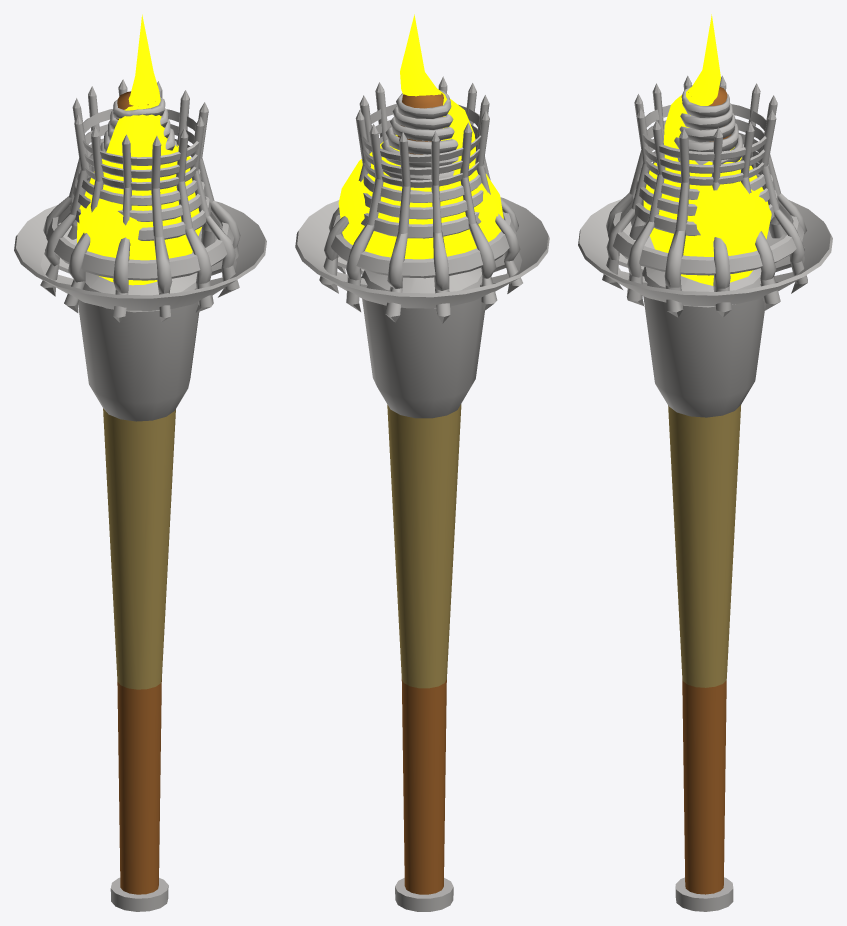
The model's file is non-textured_burning_torch_3.glb.
3 renders of one model, left to right at view 1: azimuth 30°, elevation 25°; view 2: azimuth 150°, elevation 25°; view 3: azimuth 270°, elevation 25°, orthographic.
Parts seen in each view (by area): view 1: torch, flame; view 2: torch, flame; view 3: torch, flame.
Boxes of the visible parts, <box> form: torch: <box>14,79,266,911</box>; flame: <box>77,14,201,285</box>; torch: <box>295,76,549,911</box>; flame: <box>338,14,503,259</box>; torch: <box>578,75,832,911</box>; flame: <box>643,14,771,285</box>.
Bounding box in the file's own units: 2.36 × 9.06 × 2.36.
